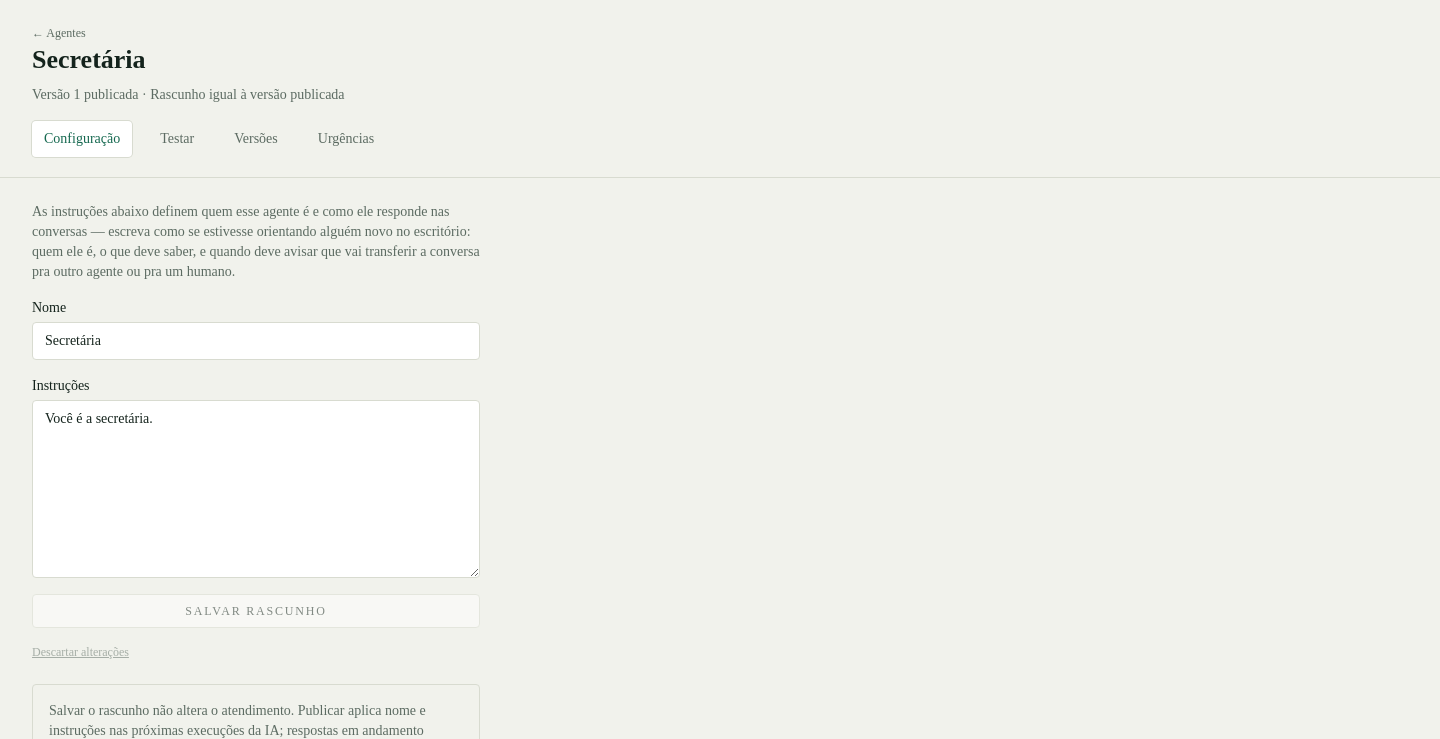
Test: AgentDetail › salva as alterações do formulário
Replace the text in the field showing "Secretária" with "Nova Secretária": coordinates (256, 340) [32,322,480,360]
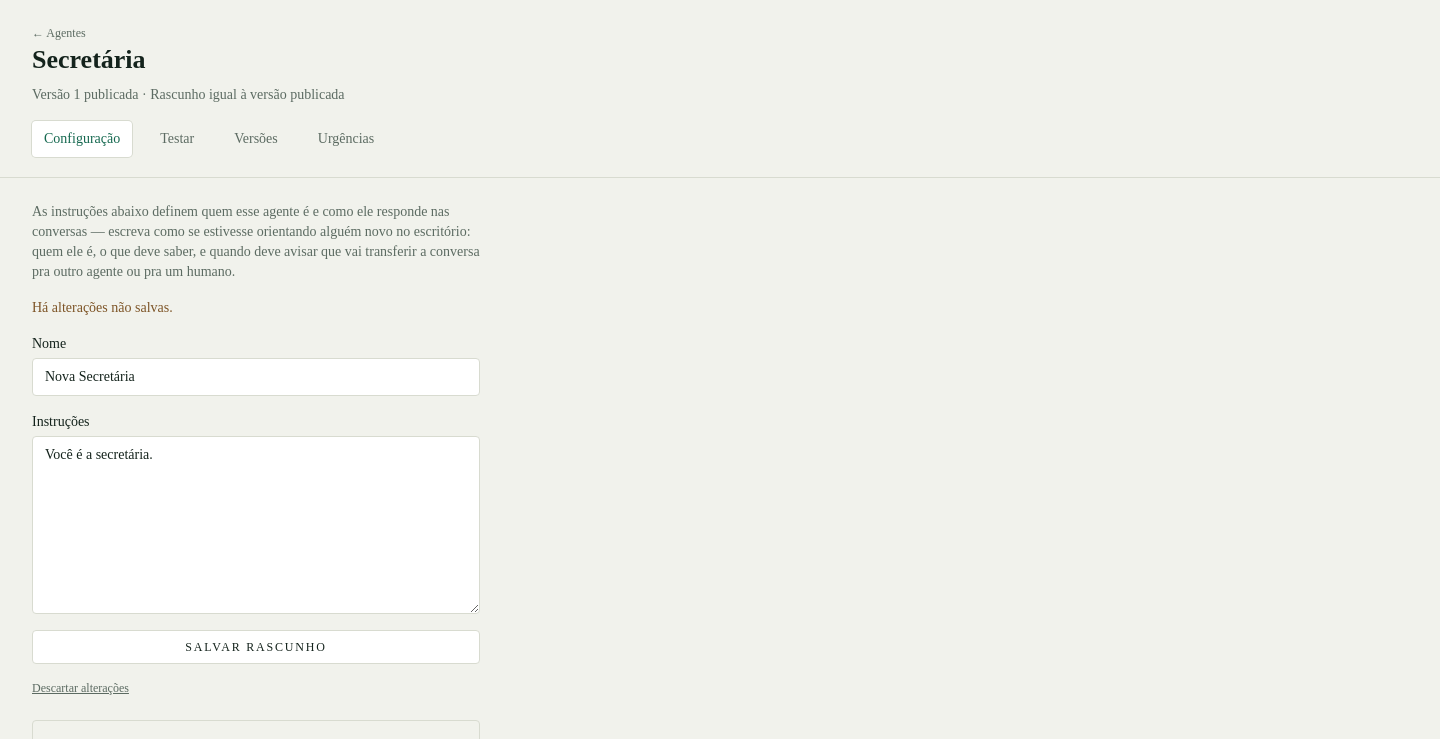
Click the button "Salvar rascunho": coordinates (256, 646) [32,630,480,664]
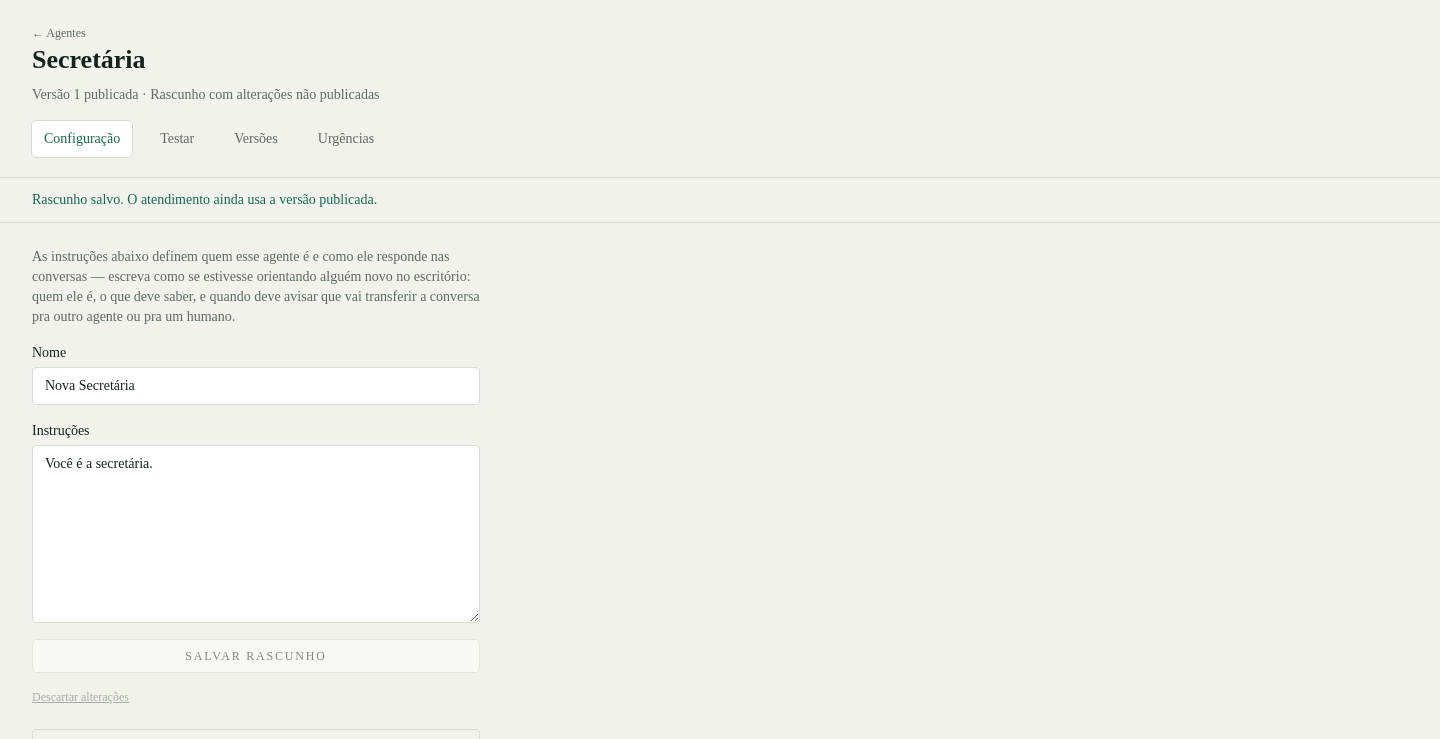
Now the message reads "Rascunho salvo. O atendimento ainda usa a versão publicada.", box [32,192,377,206]
Now the text "Há alterações não salvas." is gone
Now the button "Salvar rascunho" is disabled, box [32,638,480,672]
